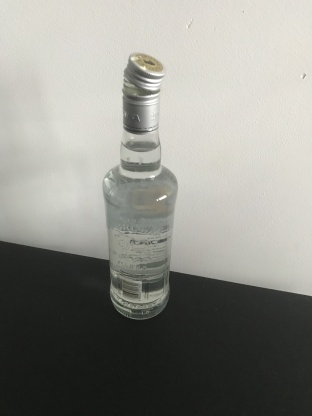nakretka: (120, 50, 166, 135)
